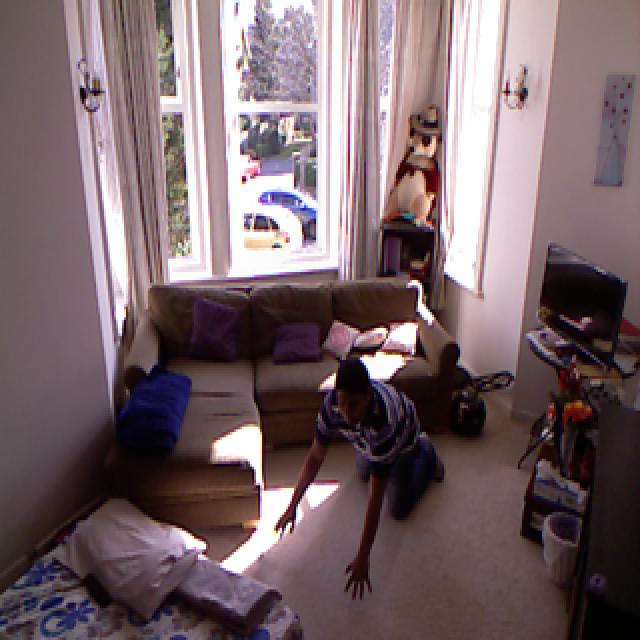crawling: (282, 348, 442, 602)
